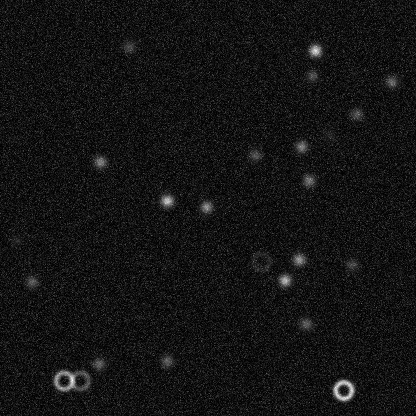Ring: (68, 368, 92, 392), (249, 249, 273, 273), (51, 368, 75, 392), (331, 378, 355, 402)
Spot: (307, 42, 323, 58), (276, 272, 292, 288), (158, 192, 174, 208), (198, 198, 214, 214), (159, 352, 175, 368), (90, 355, 106, 371), (23, 273, 39, 289), (321, 126, 337, 142), (297, 315, 313, 331), (247, 147, 263, 163), (300, 172, 316, 188), (348, 105, 364, 121), (293, 138, 309, 154), (92, 154, 108, 170), (121, 38, 137, 54), (303, 67, 319, 83), (8, 231, 24, 247), (343, 256, 359, 272), (290, 251, 306, 267), (383, 73, 399, 89)
